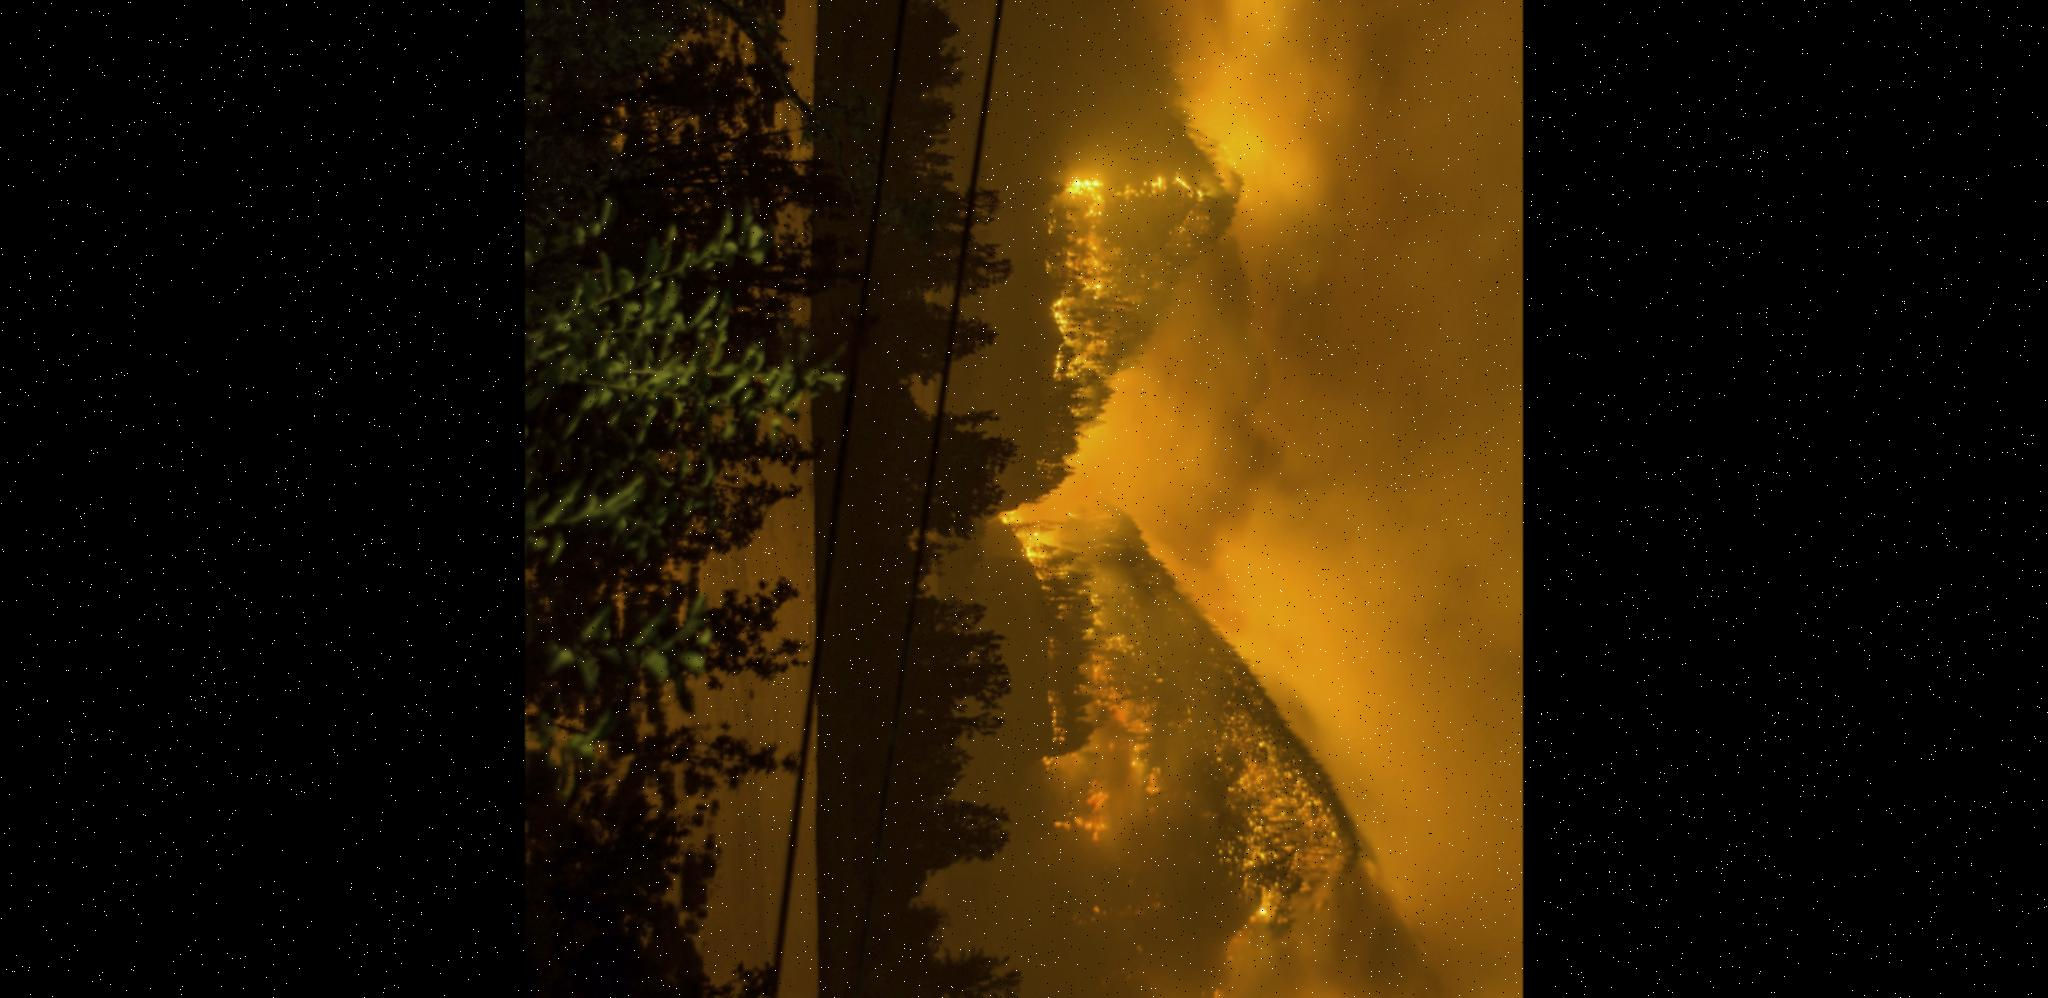fire: (959, 0, 1438, 998)
